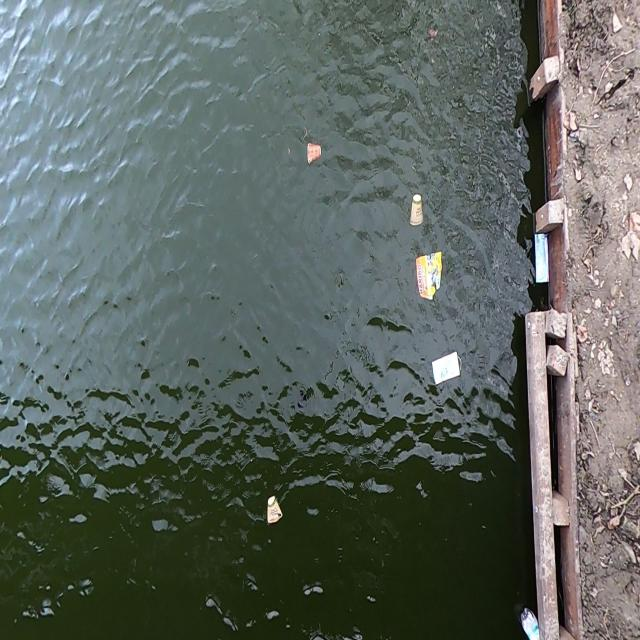Autre plastique: (413, 249, 446, 302)
Non plastique: (428, 346, 466, 392), (263, 492, 287, 533), (409, 193, 427, 230), (306, 138, 324, 169)
